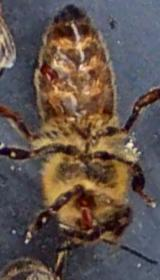varroa_mite: (35, 58, 66, 90)
